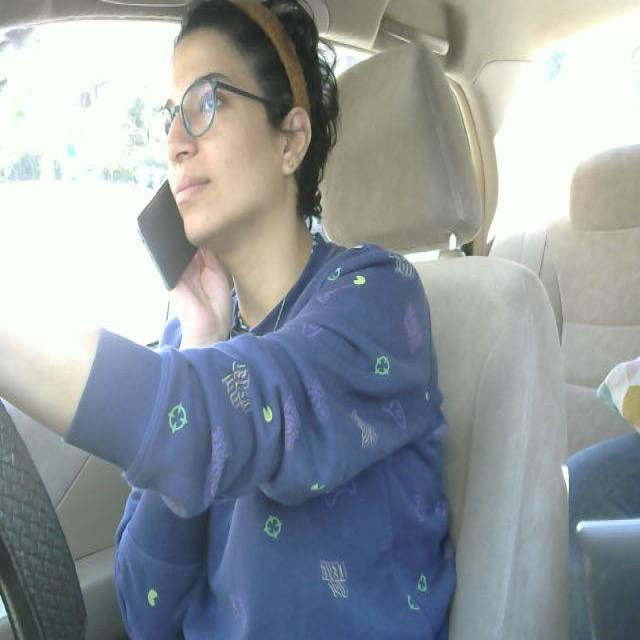mobile use: (131, 174, 197, 295)
